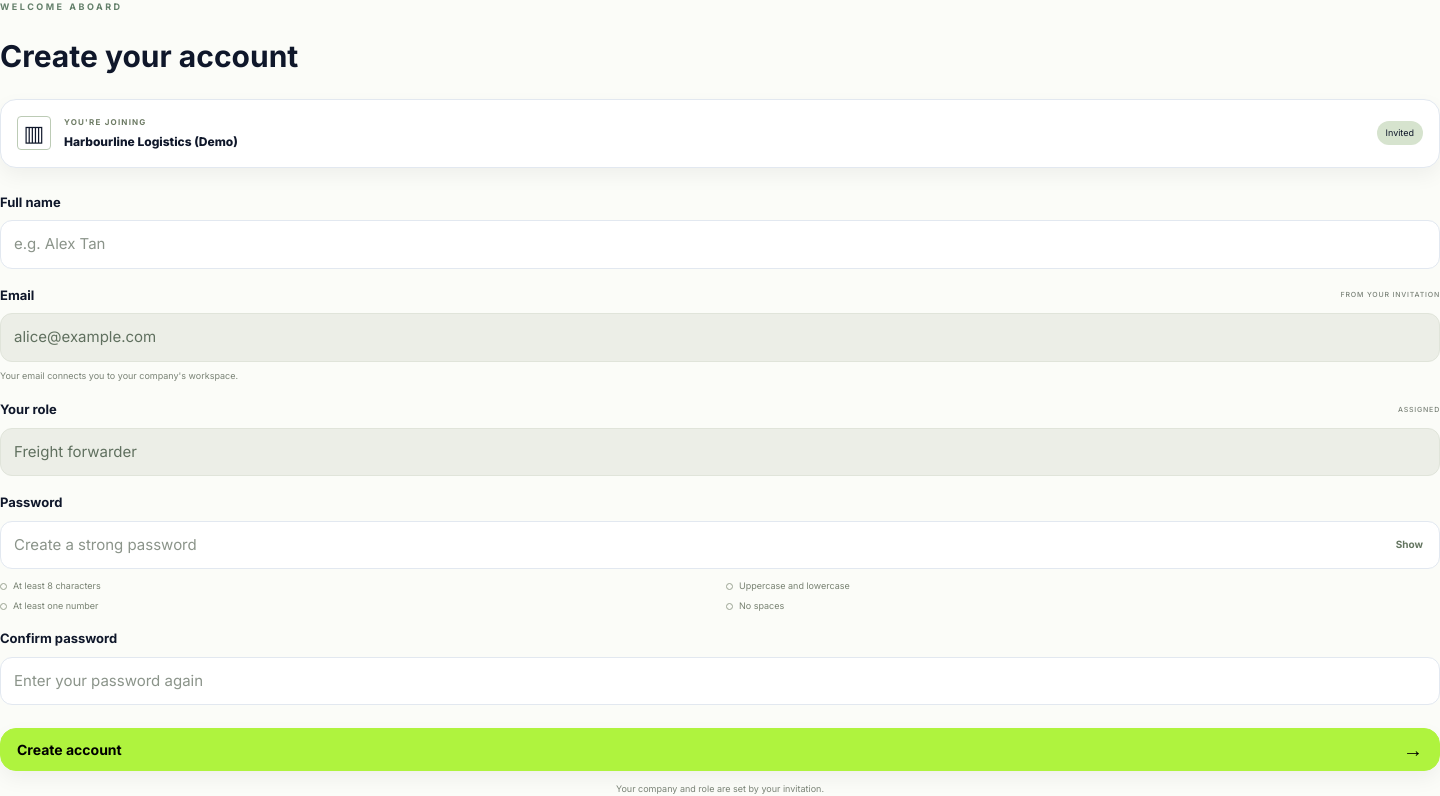
signup form › prevents mismatched passwords
Type "Alice" into the field labelled "Full name" at (720, 244), box [0, 220, 1439, 269]
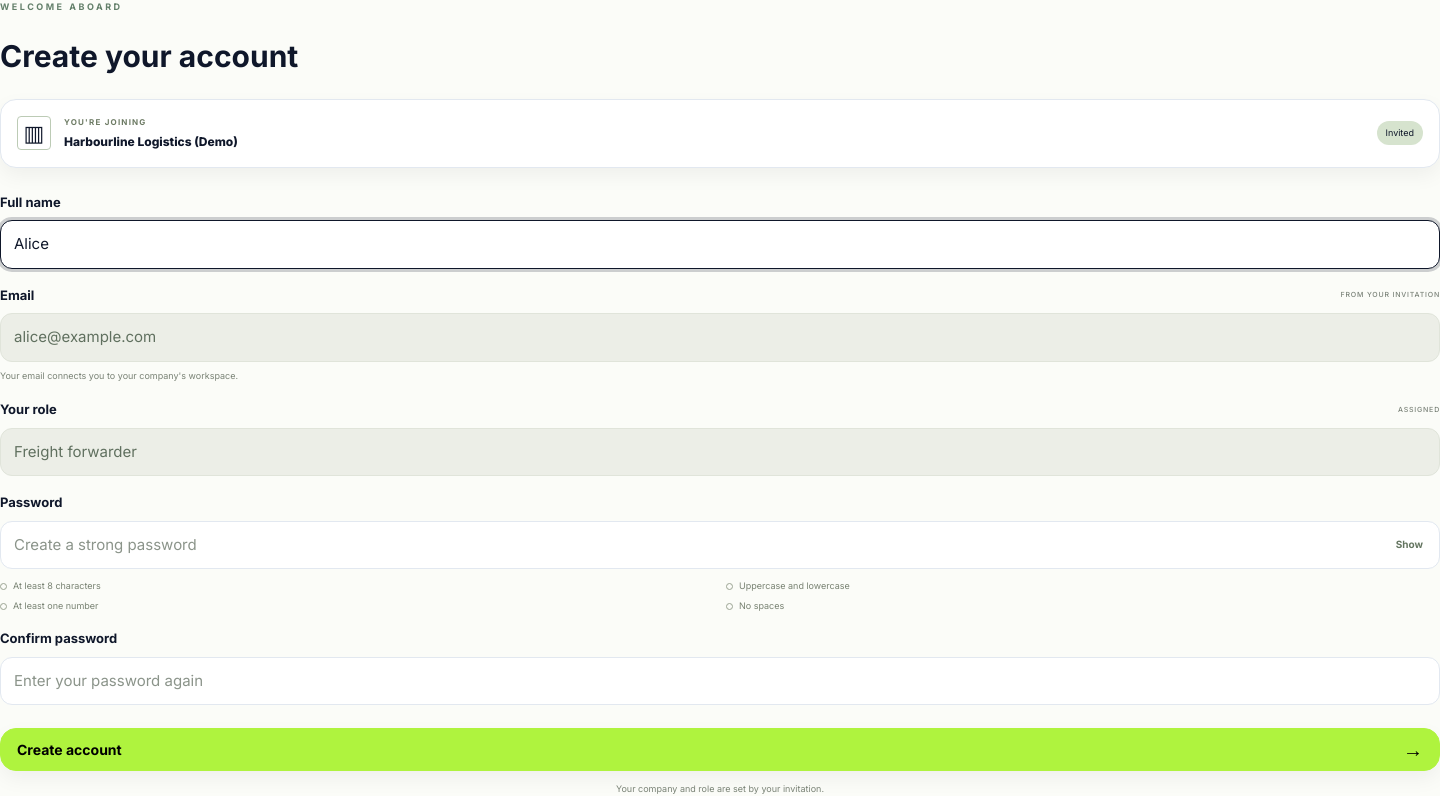
Type "Example123" into the password field labelled "Password" at (720, 545), box [0, 521, 1439, 569]
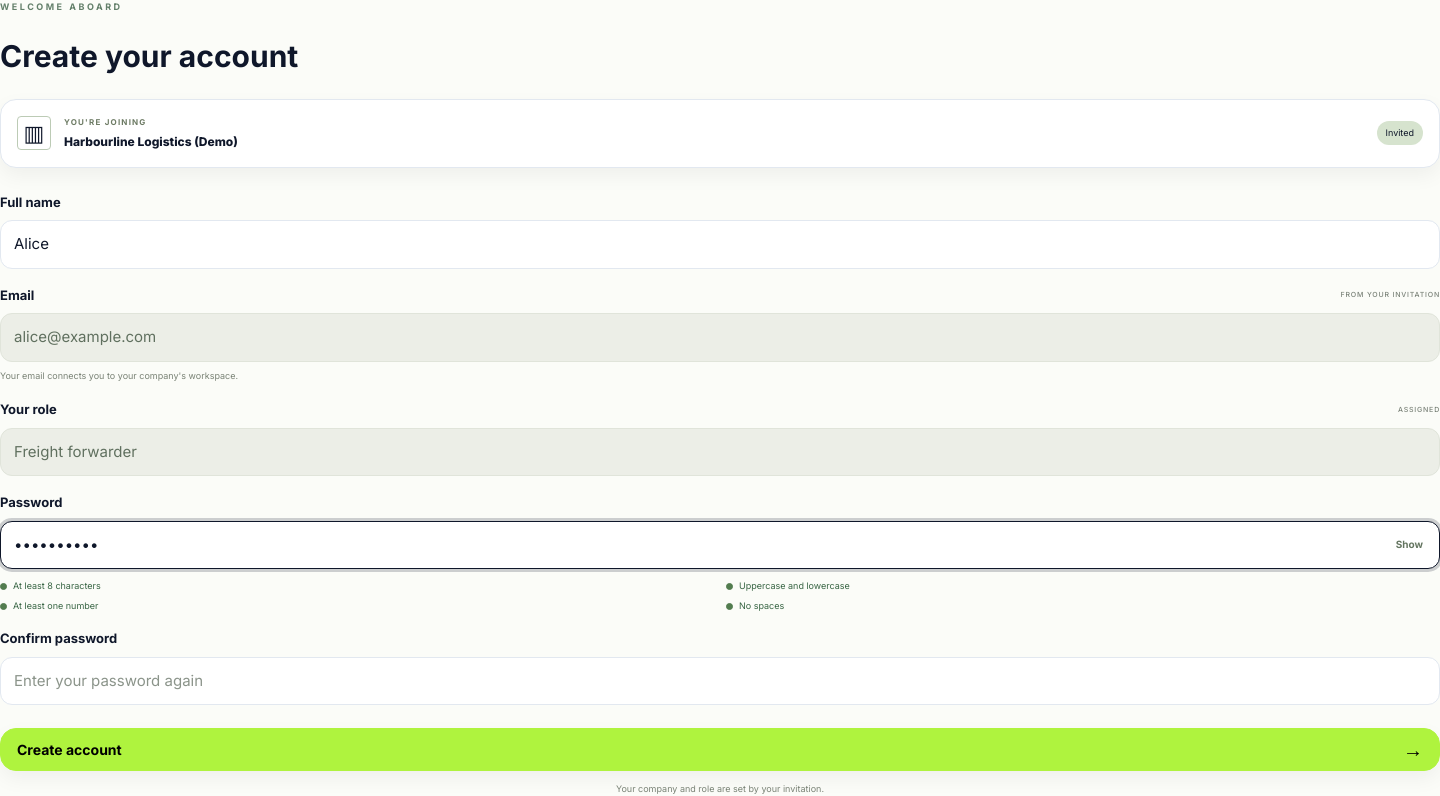
Type "Example123" into the password field labelled "Confirm password" at (720, 681), box [0, 657, 1439, 705]
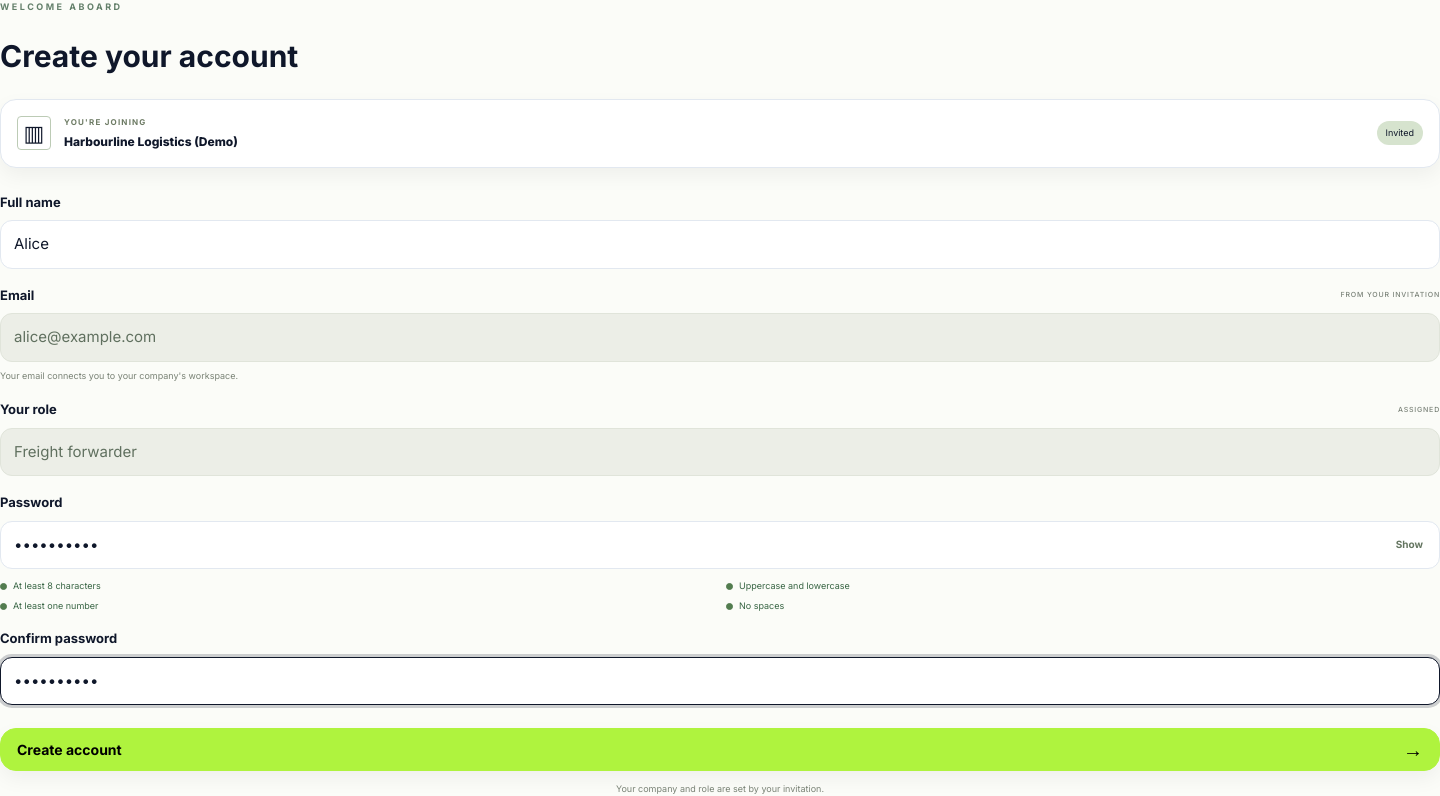
Type "different" into the password field labelled "Confirm password" at (720, 681), box [0, 657, 1439, 705]
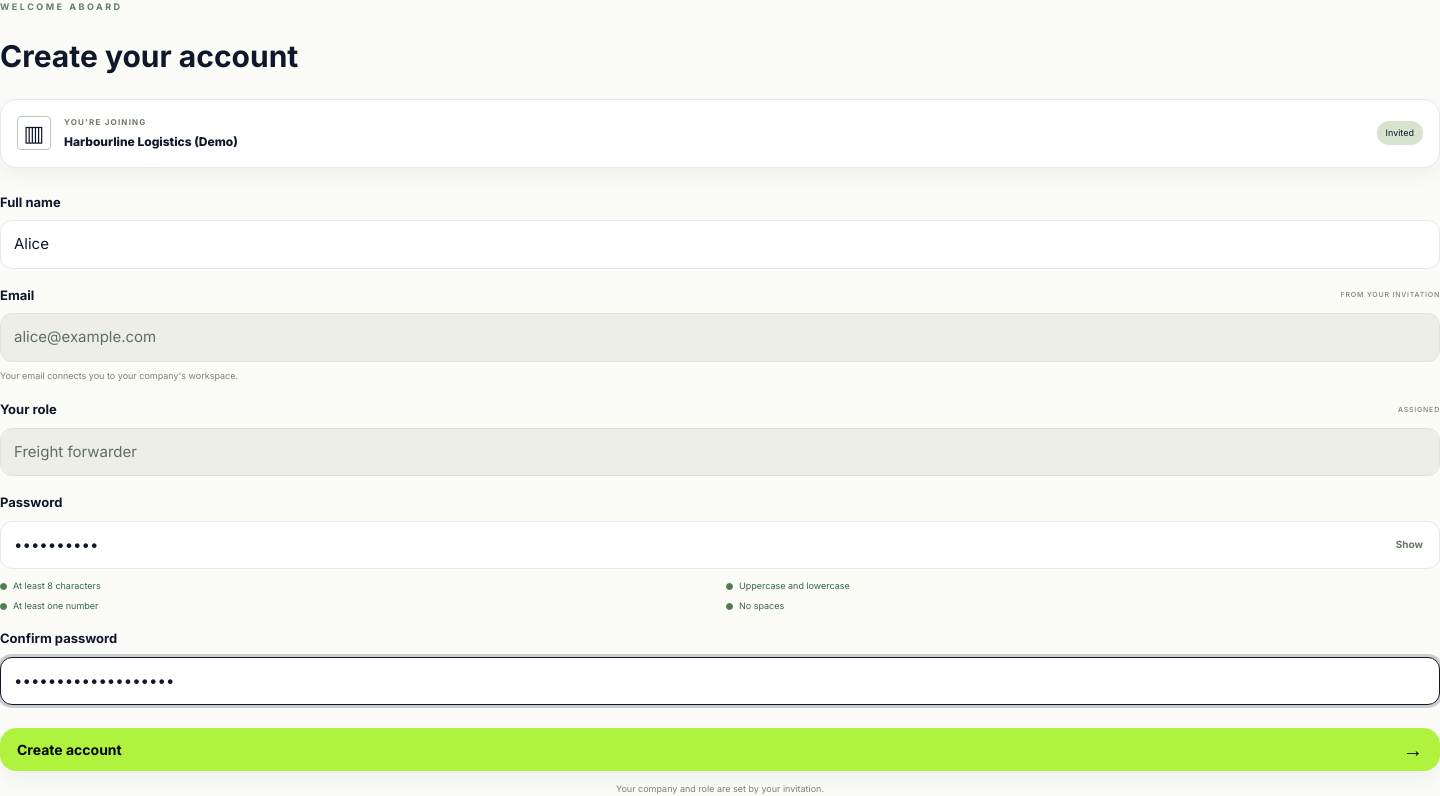
Click the button "Create account →" at (69, 750), box [0, 728, 1439, 771]
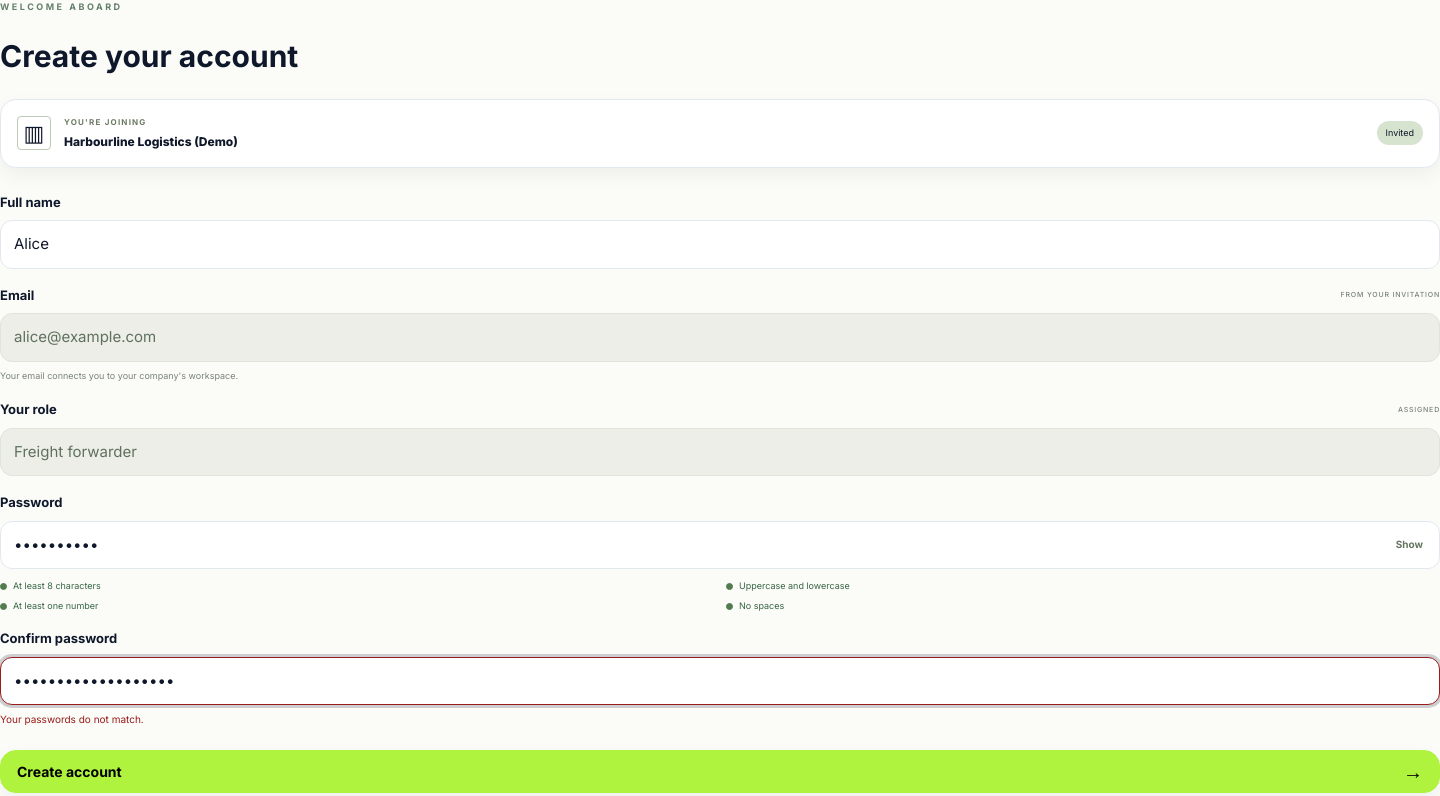
Expected: the text "Your passwords do not match." is shown, [0, 713, 144, 725]
